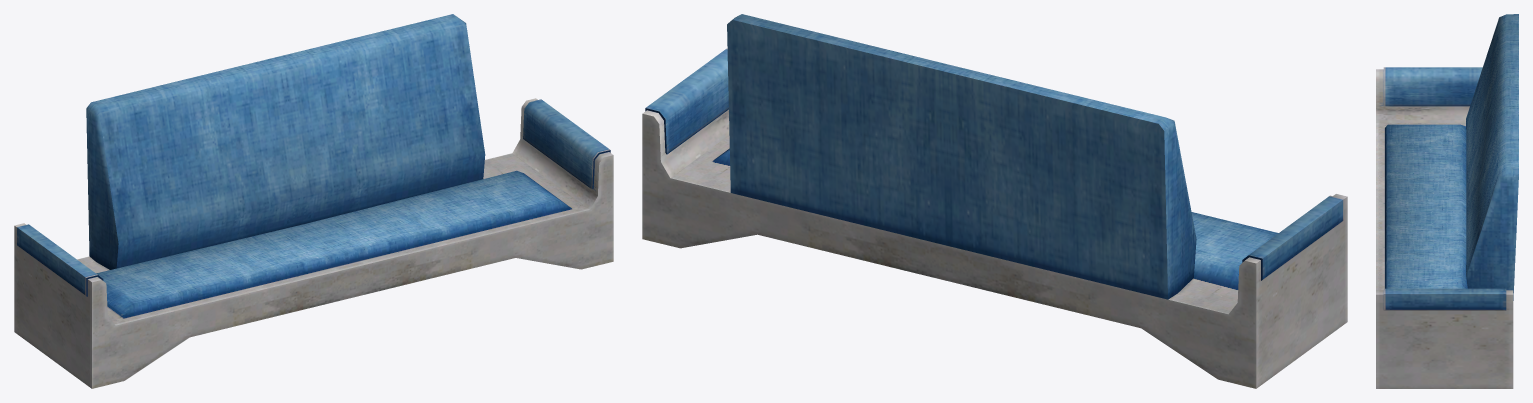
Rendered from frn_all_mdrn_couch_s02_l0.fbx.
3 views of the same model, side by side, from view 1: azimuth 30°, elevation 25°; view 2: azimuth 150°, elevation 25°; view 3: azimuth 270°, elevation 25° (orthographic). The views are drawn at different scales.
Parts seen in each view (by area): view 1: mesh_node; view 2: mesh_node; view 3: mesh_node.
Part boxes in pixels (x1,y1,x2,y2): mesh_node: (14,14,613,388); mesh_node: (642,14,1347,388); mesh_node: (1376,14,1518,388).
Size of the model in its own units: 3.9 by 1.48 by 1.04.
